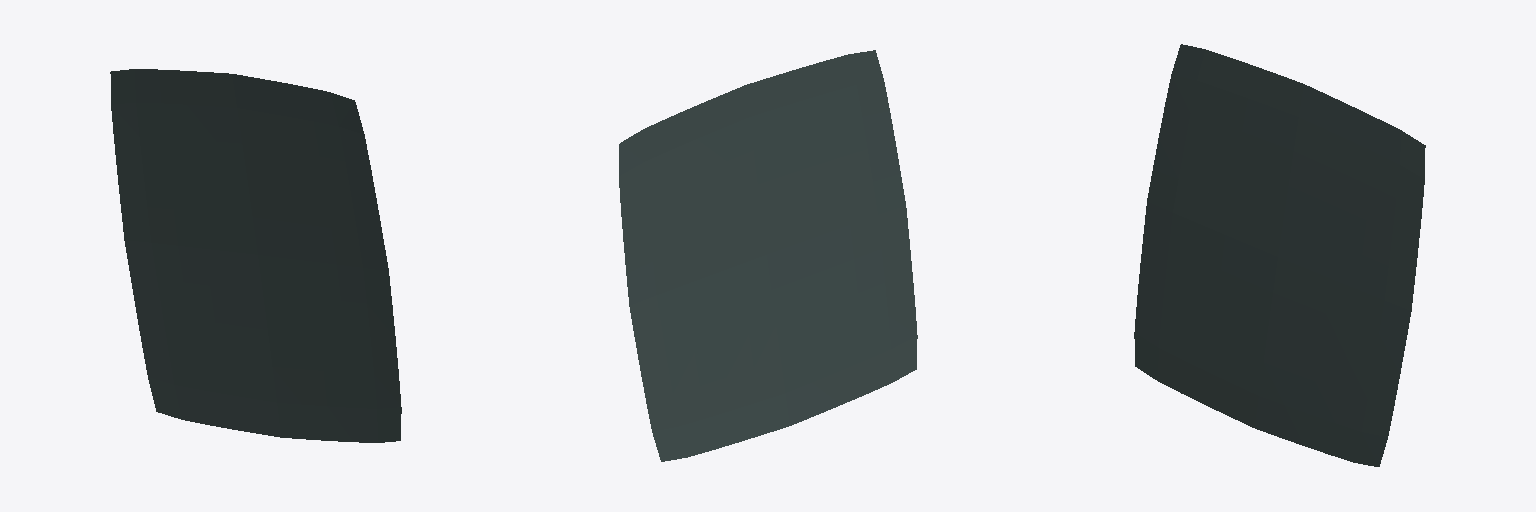
Rendered from pip9.obj.
3 renders of one model, left to right at view 1: azimuth 90°, elevation 25°; view 2: azimuth 150°, elevation 25°; view 3: azimuth 270°, elevation 25°, orthographic.
Parts seen in each view (by area): view 1: pip9; view 2: pip9; view 3: pip9.
Boxes of the visible parts, x1=… form: pip9: x1=110, y1=69, x2=401, y2=442; pip9: x1=619, y1=50, x2=917, y2=461; pip9: x1=1134, y1=44, x2=1425, y2=466.
Size of the model in its own units: 1.75 by 4.03 by 2.87.